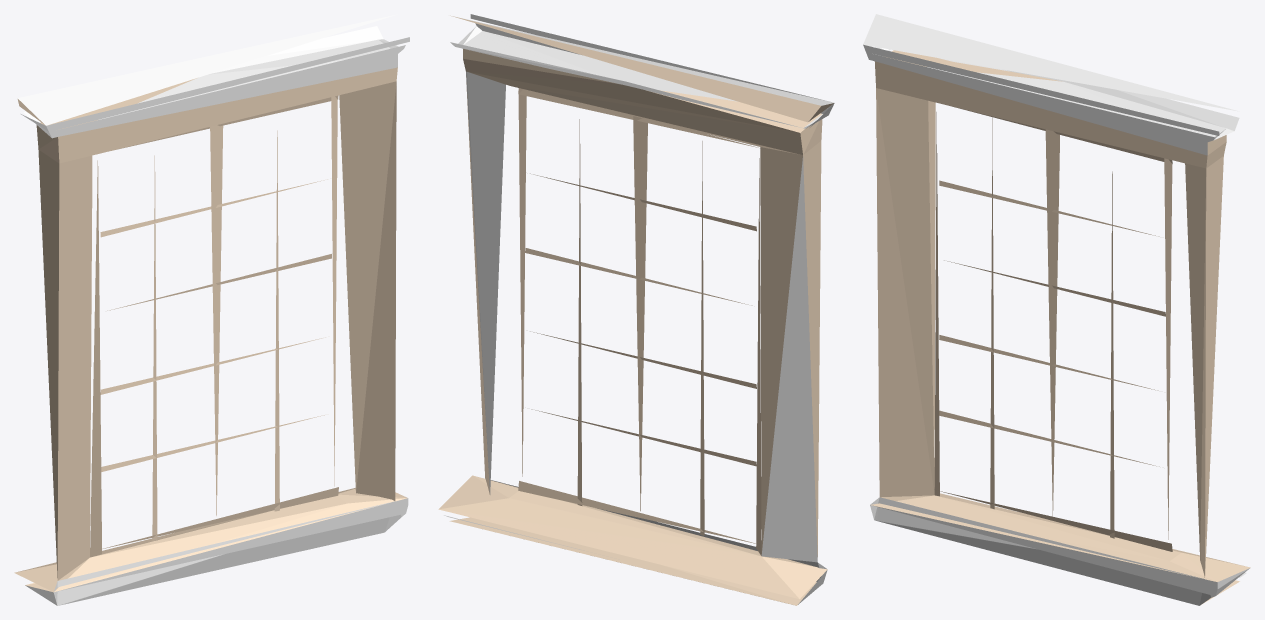
Rendered from window8LP.dae.
The picture shows the model from 3 angles, left to right: view 1: azimuth 30°, elevation 25°; view 2: azimuth 150°, elevation 25°; view 3: azimuth 330°, elevation 25°; orthographic projection. The views are drawn at different scales.
Visible parts, largest first — view 1: 立方体.003; view 2: 立方体.003; view 3: 立方体.003.
Boxes of the visible parts, bbox=[...] form: 立方体.003: bbox=[14, 14, 409, 605]; 立方体.003: bbox=[438, 14, 834, 605]; 立方体.003: bbox=[863, 14, 1250, 605].
Bounding box in the file's own units: 0.7796 × 0.1211 × 0.9984.
